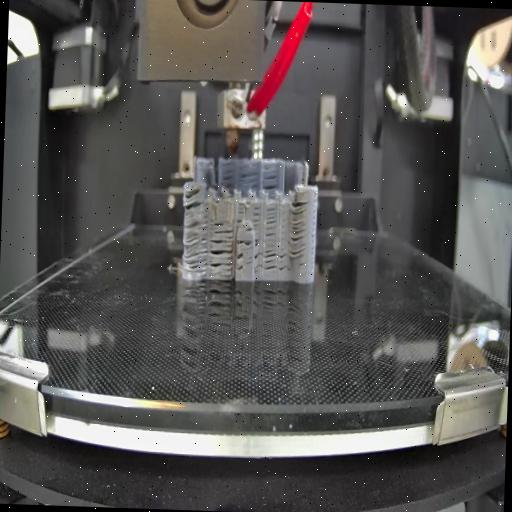cracks: (182, 218, 209, 274), (290, 200, 308, 267), (208, 240, 234, 273), (182, 186, 204, 210), (264, 206, 278, 238), (239, 168, 260, 188), (264, 245, 278, 273), (252, 235, 262, 273), (221, 166, 236, 189), (278, 243, 288, 273), (213, 220, 234, 234), (262, 173, 278, 190), (234, 204, 244, 225), (236, 252, 244, 274), (236, 237, 252, 247), (252, 205, 260, 223), (244, 226, 254, 234)
